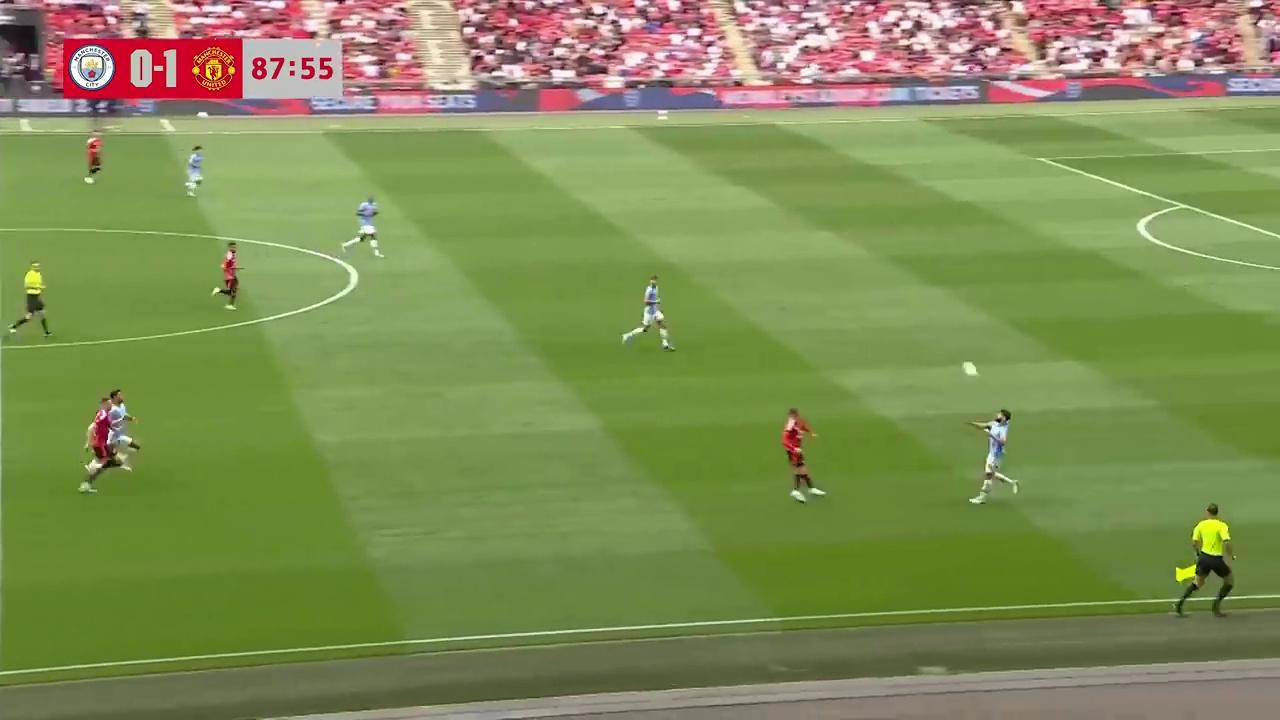ball: (962, 361, 978, 381)
player: (965, 408, 1019, 503), (781, 407, 825, 502), (621, 275, 675, 351), (77, 403, 117, 494), (9, 259, 53, 339), (95, 389, 139, 456), (349, 195, 383, 257), (212, 243, 242, 310), (84, 130, 103, 184), (184, 145, 204, 196)
referee: (1173, 503, 1236, 619)
